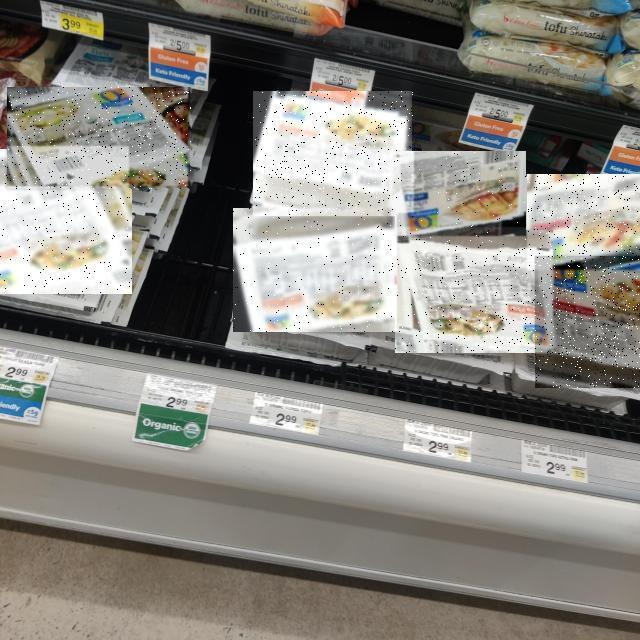Tofu: (233, 208, 397, 332), (254, 91, 414, 216), (395, 230, 553, 353), (0, 149, 132, 294), (8, 88, 192, 190), (535, 256, 640, 388), (395, 152, 526, 240), (527, 174, 640, 270)
